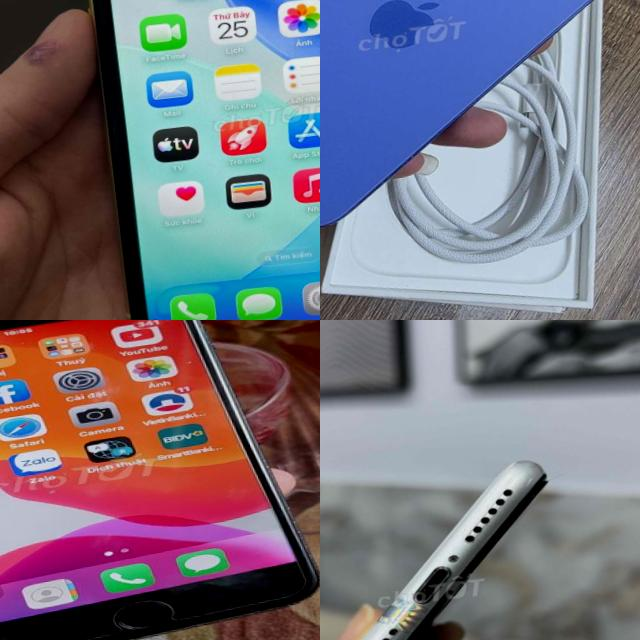gen_11: (54, 0, 320, 320)
gen_16: (320, 0, 590, 225)
gen_7_8: (0, 320, 316, 640), (320, 452, 589, 640)
scratch: (245, 441, 320, 572), (176, 320, 241, 357), (494, 459, 545, 490)
